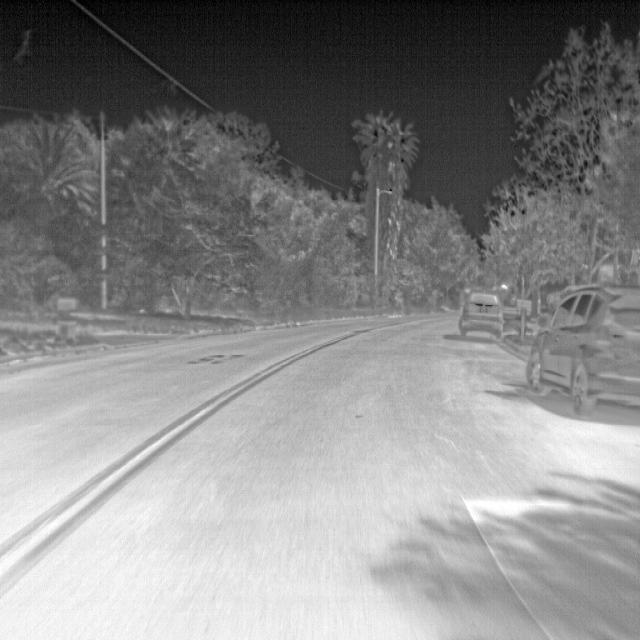Vehicle: (523, 282, 638, 416), (456, 288, 506, 342)
